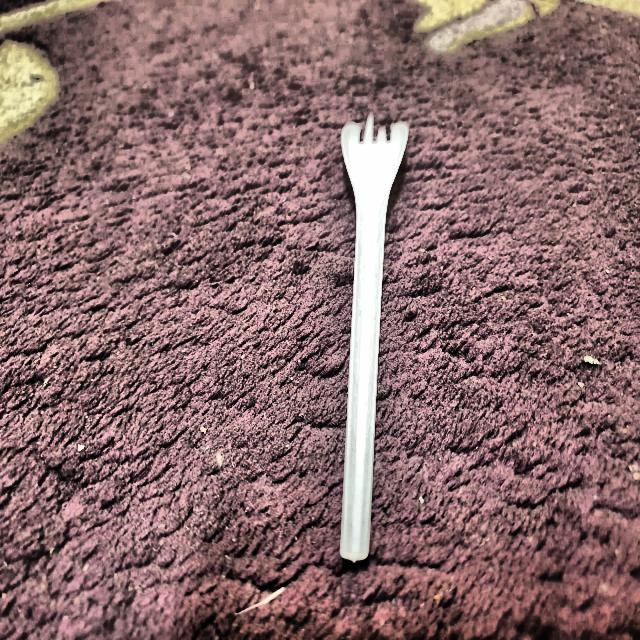plastic utensil: (330, 111, 414, 567)
